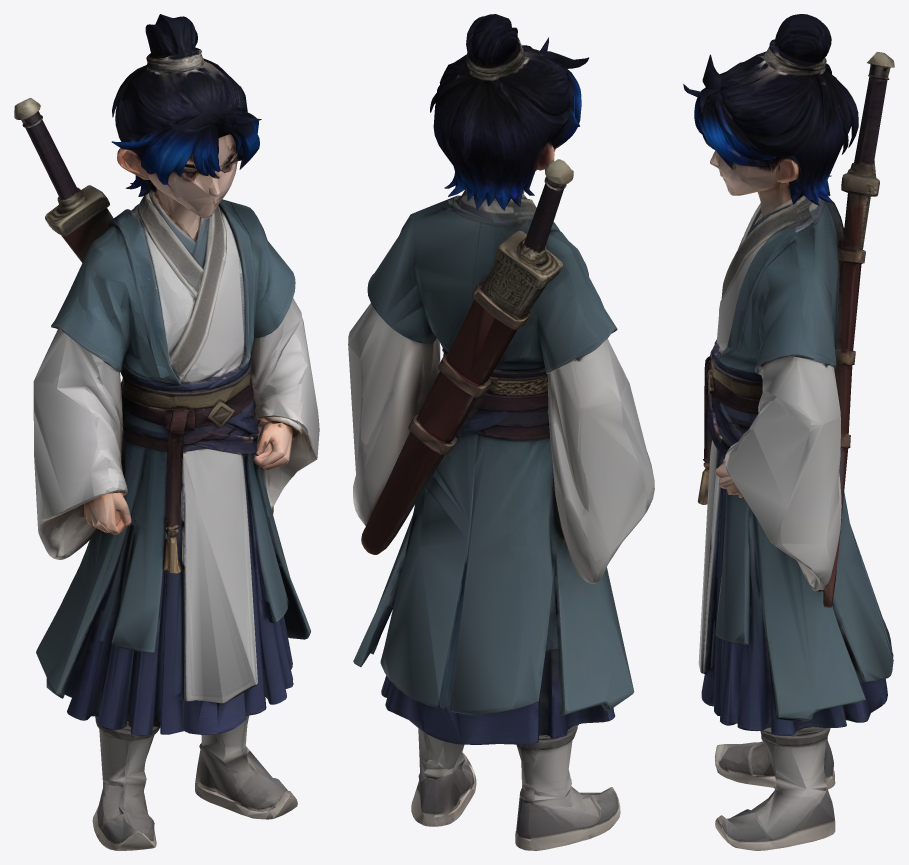
The model's file is person-a.glb.
3 views of the same model, side by side, from view 1: azimuth 30°, elevation 25°; view 2: azimuth 150°, elevation 25°; view 3: azimuth 270°, elevation 25° (orthographic). The views are drawn at different scales.
Bounding box in the file's own units: 0.4291 × 1.16 × 0.2821.
1 material, 1 textured.
